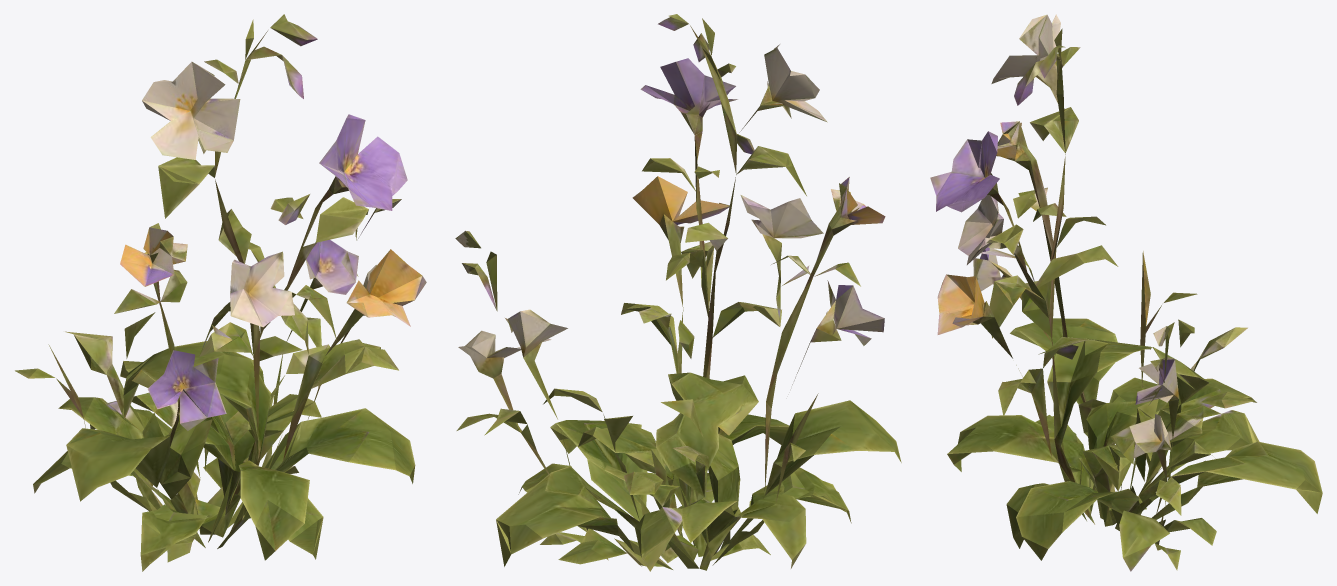
The model's file is VEG-011.glb.
The picture shows the model from 3 angles, left to right: view 1: azimuth 30°, elevation 25°; view 2: azimuth 150°, elevation 25°; view 3: azimuth 270°, elevation 25°; orthographic projection. The views are drawn at different scales.
Visible parts, largest first — view 1: VEG-011_LOD0; view 2: VEG-011_LOD0; view 3: VEG-011_LOD0.
Part boxes in pixels (left/top/right/bottom): VEG-011_LOD0: left=15, top=14, right=426, bottom=571; VEG-011_LOD0: left=455, top=14, right=901, bottom=571; VEG-011_LOD0: left=930, top=14, right=1322, bottom=571.
Size of what is drawn, in the model's own units: 0.3841 by 0.5 by 0.3535.
1 material, 1 textured.
